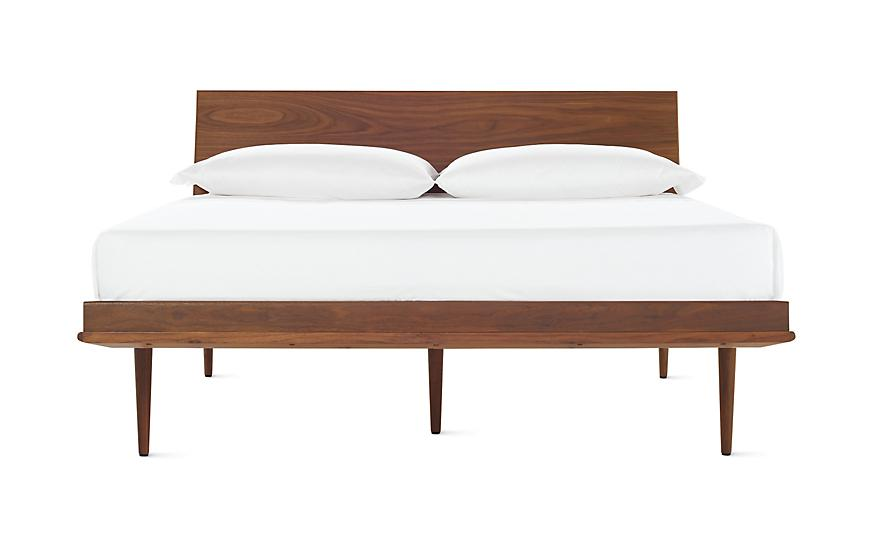bed: (59, 65, 818, 482)
